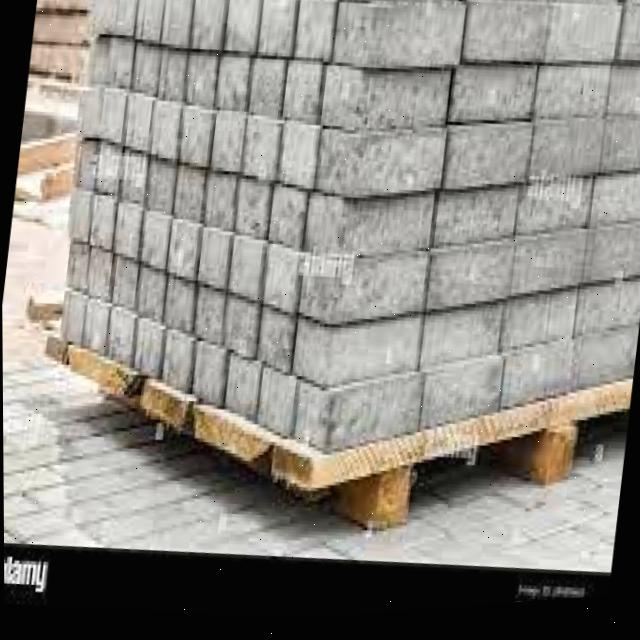bricks: (62, 0, 640, 445)
